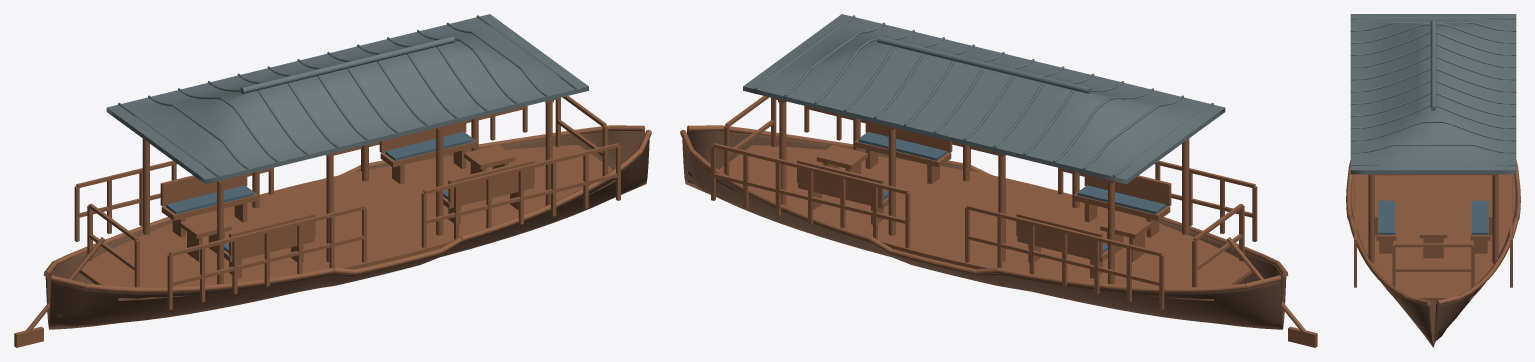
Rendered from barge-lod1.glb.
The picture shows the model from 3 angles, left to right: view 1: azimuth 30°, elevation 25°; view 2: azimuth 150°, elevation 25°; view 3: azimuth 270°, elevation 25°; orthographic projection. The views are drawn at different scales.
Parts seen in each view (by area): view 1: barge.wood, barge.roof, barge.hull, barge.cushion; view 2: barge.wood, barge.roof, barge.hull, barge.cushion; view 3: barge.roof, barge.wood, barge.hull, barge.cushion.
Part boxes in pixels (x1=…): barge.wood: x1=14, y1=96, x2=651, y2=347; barge.roof: x1=106, y1=14, x2=588, y2=184; barge.hull: x1=45, y1=127, x2=649, y2=329; barge.cushion: x1=166, y1=132, x2=473, y2=252; barge.wood: x1=680, y1=96, x2=1317, y2=347; barge.roof: x1=743, y1=14, x2=1225, y2=184; barge.hull: x1=682, y1=127, x2=1286, y2=329; barge.cushion: x1=858, y1=132, x2=1165, y2=252; barge.roof: x1=1350, y1=14, x2=1516, y2=174; barge.wood: x1=1346, y1=160, x2=1520, y2=305; barge.hull: x1=1350, y1=174, x2=1516, y2=347; barge.cushion: x1=1378, y1=200, x2=1488, y2=234.
Size of the model in its own units: 12.71 by 4.04 by 3.64.
